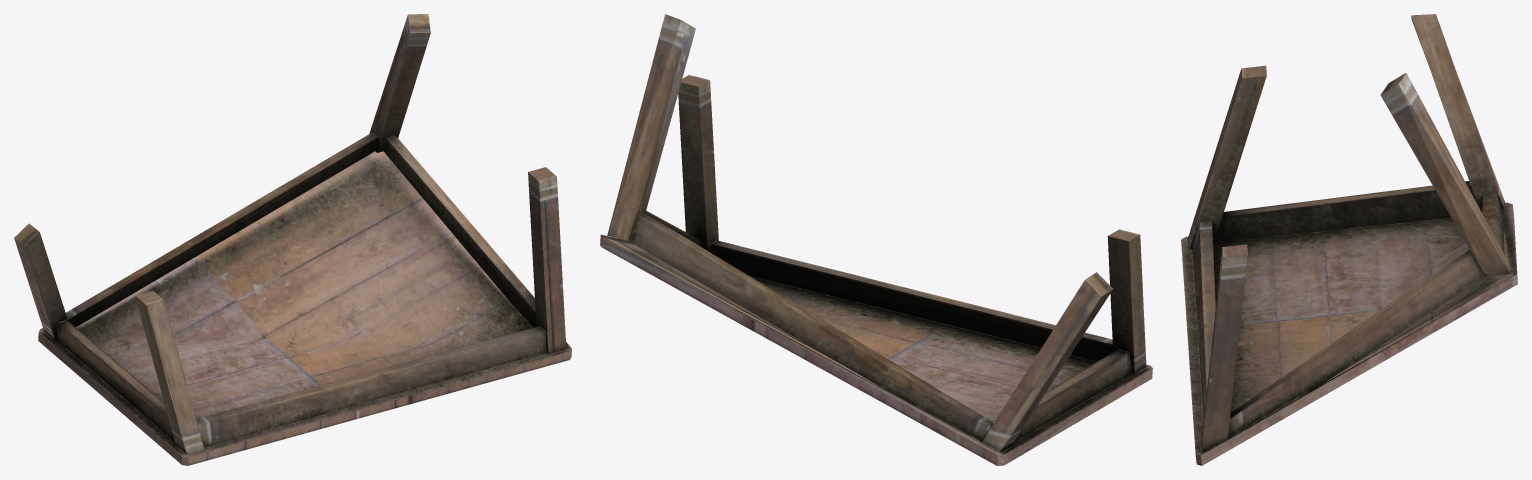
The model's file is DiningTable_Broken.FBX.
The picture shows the model from 3 angles, left to right: view 1: azimuth 30°, elevation 25°; view 2: azimuth 150°, elevation 25°; view 3: azimuth 270°, elevation 25°; orthographic projection. The views are drawn at different scales.
Visible parts, largest first — view 1: DiningTable_Broken; view 2: DiningTable_Broken; view 3: DiningTable_Broken.
Part boxes in pixels (<box>): DiningTable_Broken: <box>14,14,571,465</box>; DiningTable_Broken: <box>600,14,1152,465</box>; DiningTable_Broken: <box>1181,14,1517,465</box>.
Size of the model in its own units: 237 by 151 by 128.
